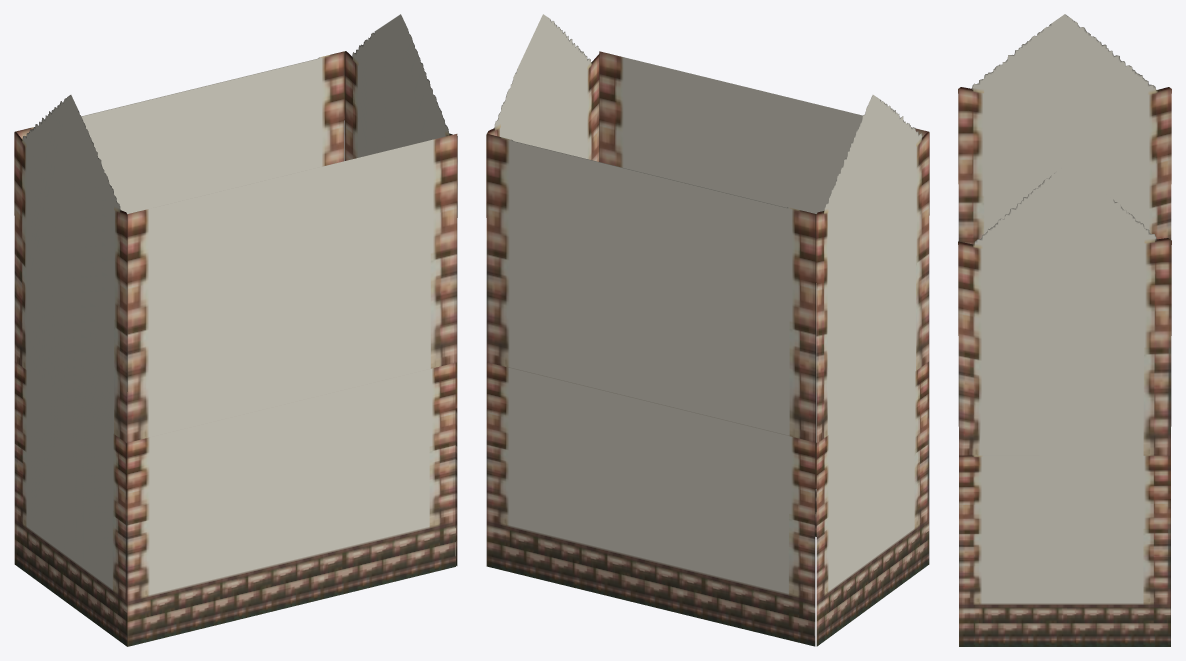
The model's file is house_base_02.fbx.
3 views of the same model, side by side, from view 1: azimuth 30°, elevation 25°; view 2: azimuth 150°, elevation 25°; view 3: azimuth 270°, elevation 25° (orthographic). The views are drawn at different scales.
Visible parts, largest first — view 1: house_base_02_export; view 2: house_base_02_export; view 3: house_base_02_export.
Boxes of the visible parts, <box> form: house_base_02_export: <box>14,14,457,646</box>; house_base_02_export: <box>486,14,929,646</box>; house_base_02_export: <box>958,14,1171,646</box>.
Bounding box in the file's own units: 170 × 251 × 101.
Materials: 1 (1 with a texture image).
